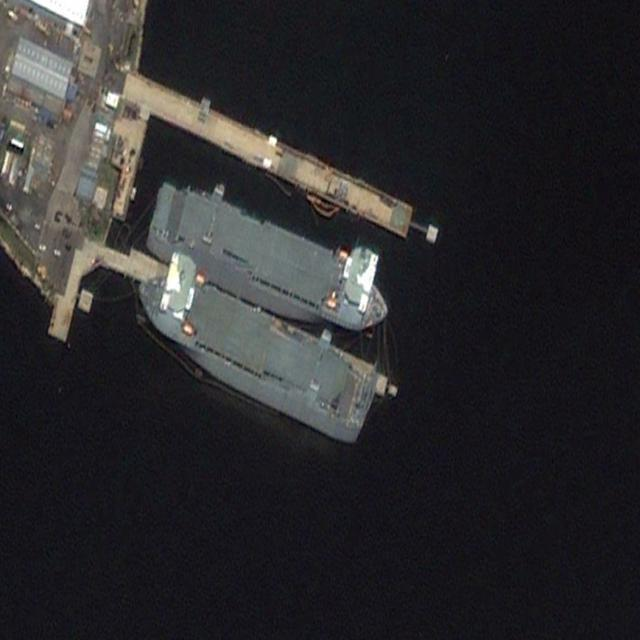Cargo: (126, 238, 385, 449), (146, 163, 398, 354)
